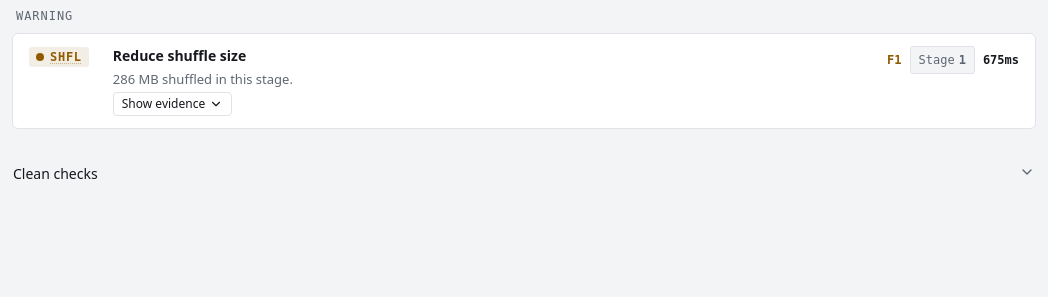
Test: evidence panel on a Findings row › starts at the finding text column, under a flat heading, without what the row already shows
Click the button "Show evidence".
click(172, 104)  # box [113,92,232,116]
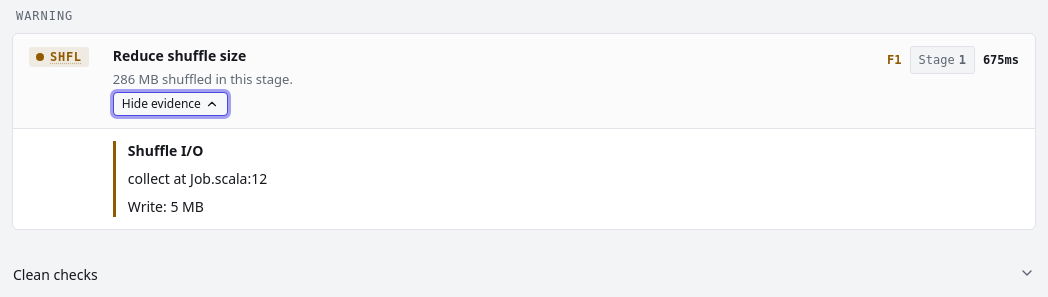
Check: the text "collect at Job.scala:12" is shown, box [128,169,267,189]
Check: the text "Write: 5 MB" is shown, box [128,197,204,216]
